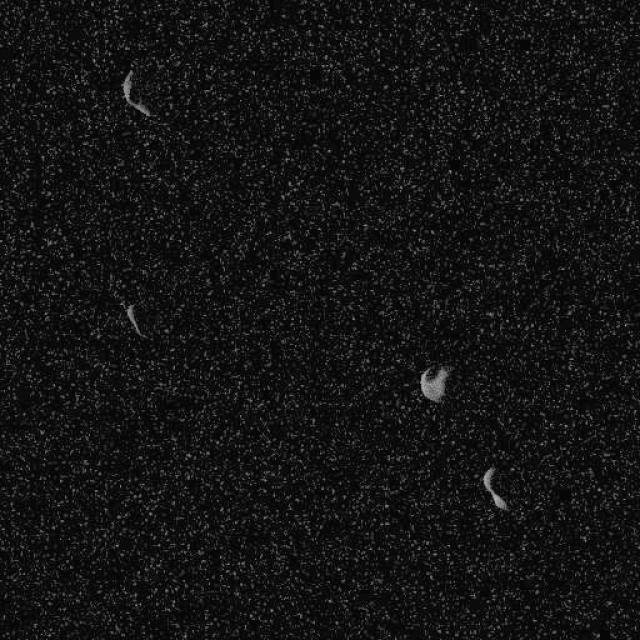D2: (120, 66, 154, 119), (419, 362, 450, 402), (482, 465, 508, 511), (120, 299, 148, 340)
